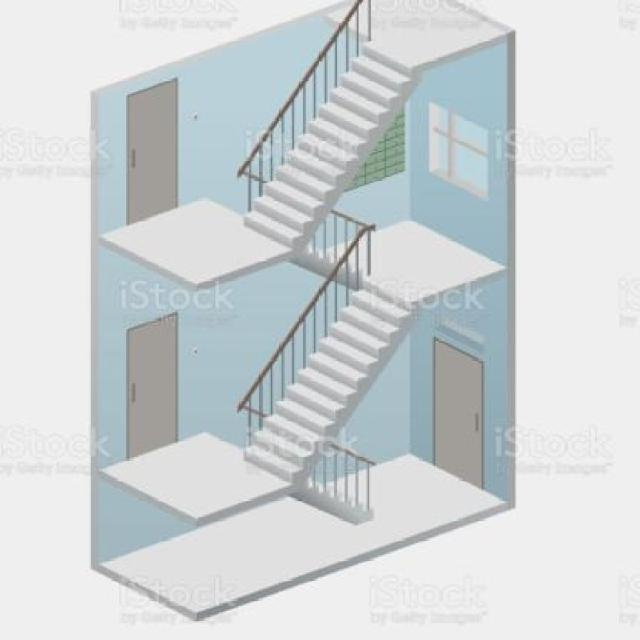stair: (216, 7, 438, 231), (212, 235, 438, 426), (222, 430, 392, 530)
